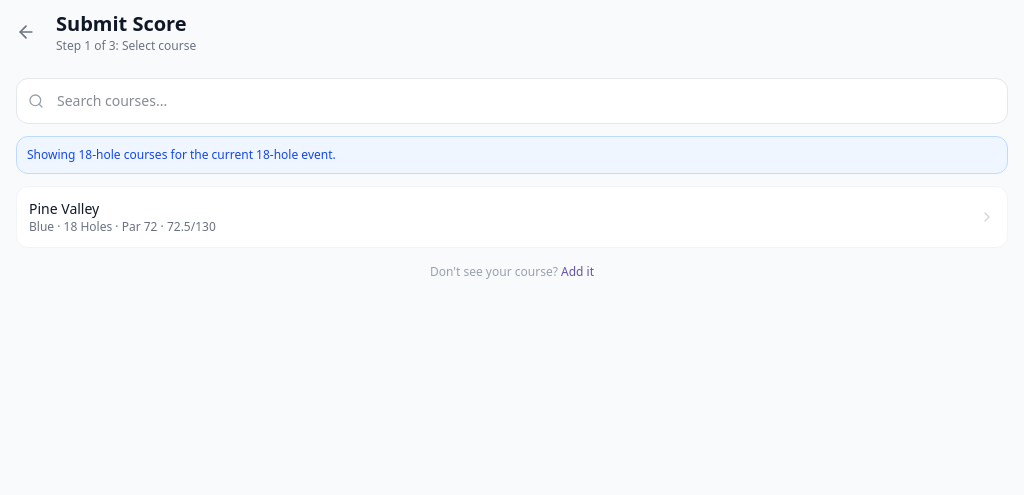
Test: Add Score Page - Partial Round Toggle › shows "Partial round?" toggle on step 3
Click the button "Pine Valley": (64, 208) 16,186 -> 1008,248
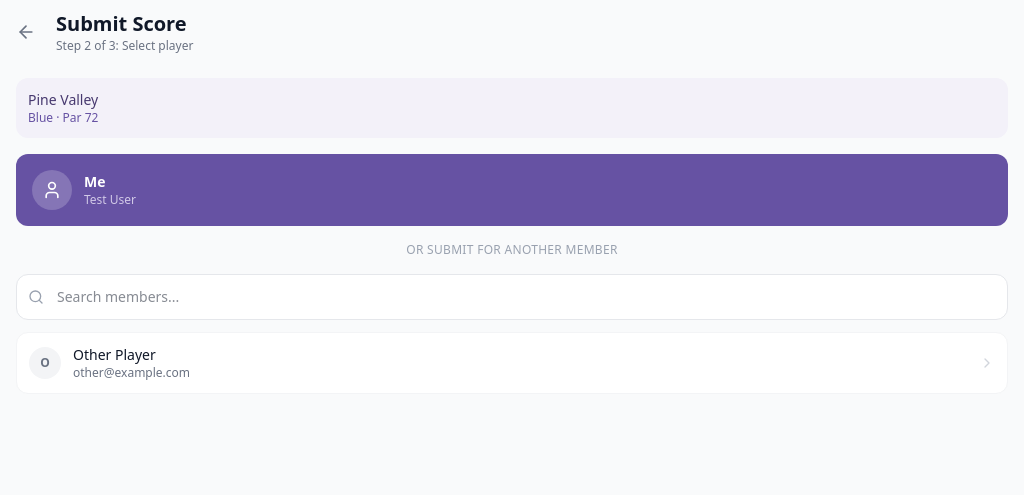
Click the button "Me Test User": (52, 190) 16,154 -> 1008,226
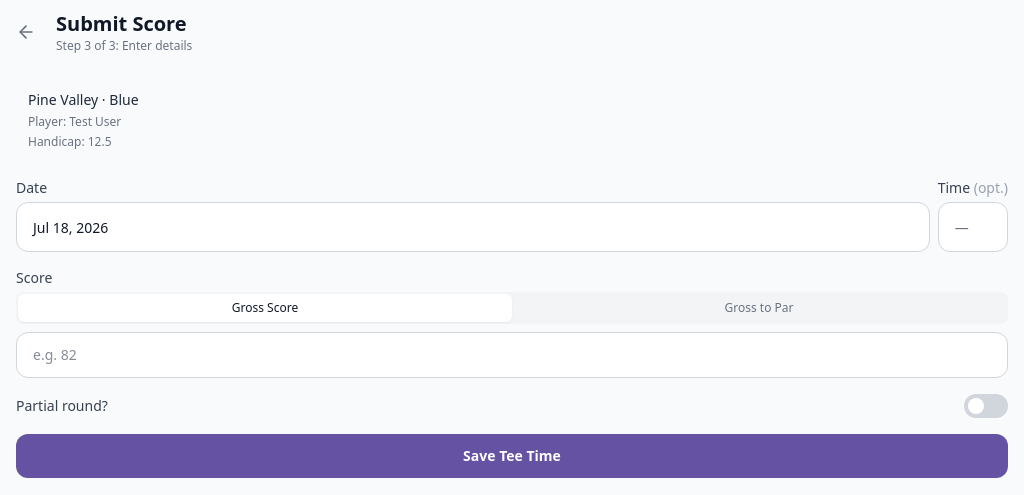
Now the text "Step 3 of 3: Enter details" is shown, box 56,38 -> 192,54
Now the text "Partial round?" is shown, box 16,396 -> 108,416
